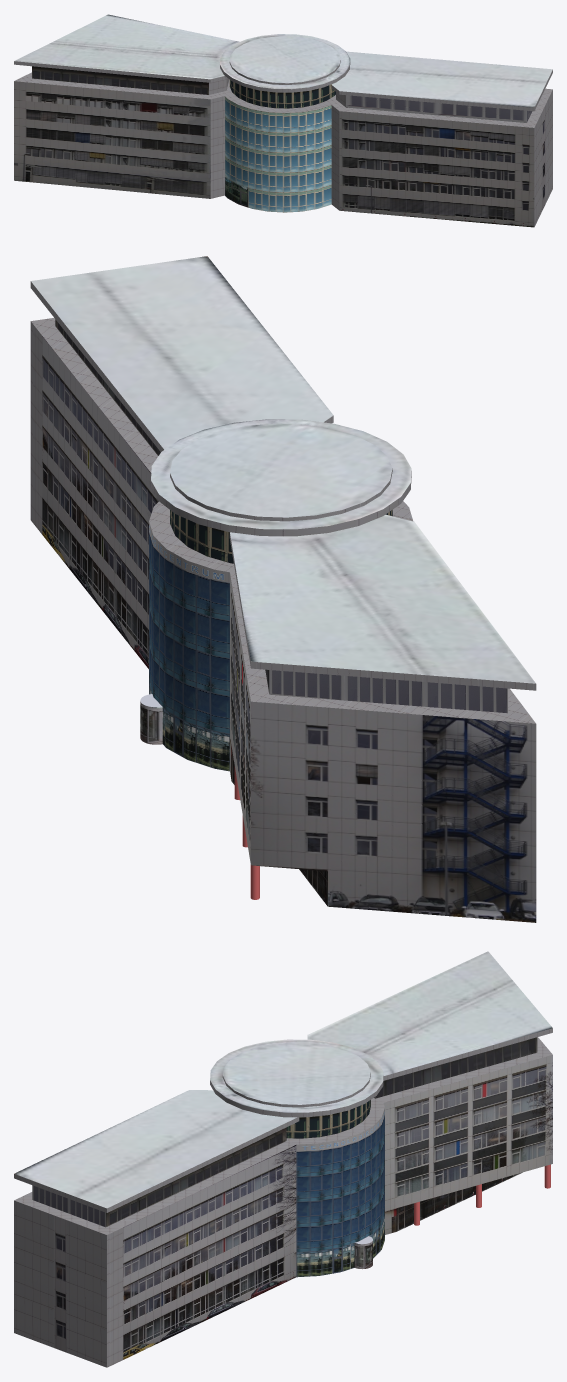
3 views of the same model, one above another, from view 1: azimuth 30°, elevation 25°; view 2: azimuth 150°, elevation 25°; view 3: azimuth 270°, elevation 25° (orthographic). The views are drawn at different scales.
Parts seen in each view (by area): view 1: Mesh1 Model; view 2: Mesh1 Model; view 3: Mesh1 Model.
Boxes of the visible parts, x1=… form: Mesh1 Model: x1=14, y1=14, x2=552, y2=227; Mesh1 Model: x1=30, y1=256, x2=536, y2=922; Mesh1 Model: x1=14, y1=951, x2=552, y2=1367.
Bounding box in the file's own units: 70.33 × 21.21 × 62.26.
Materials: 29 (26 with a texture image).
